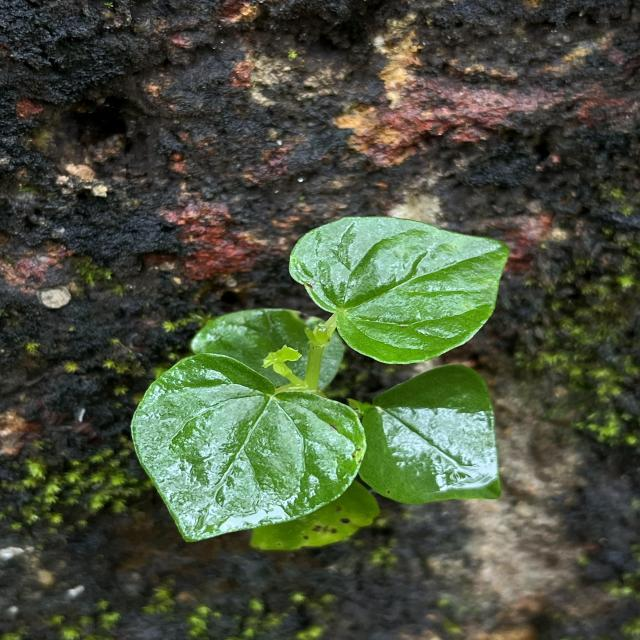Peperomia pellucida: (128, 350, 368, 544), (286, 215, 512, 366)
